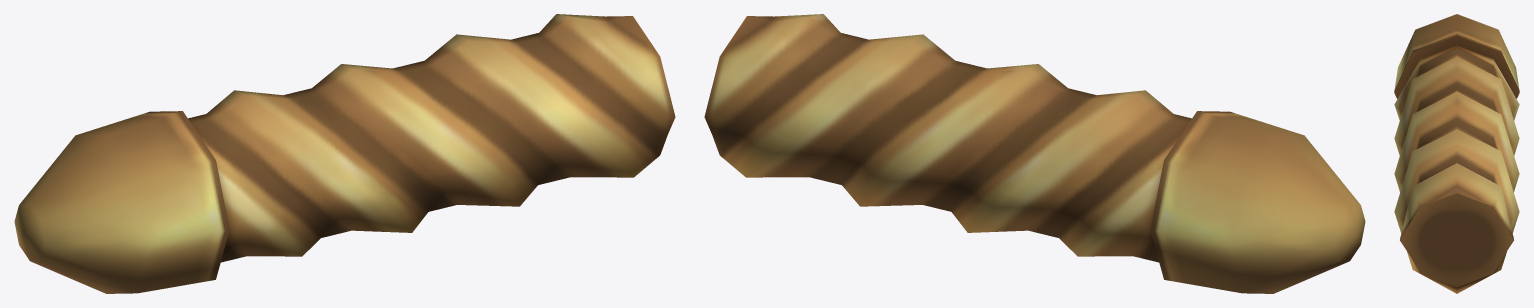
The model's file is Legend_SmK_Base_4_Mod.FBX.
3 views of the same model, side by side, from view 1: azimuth 30°, elevation 25°; view 2: azimuth 150°, elevation 25°; view 3: azimuth 270°, elevation 25° (orthographic). The views are drawn at different scales.
Visible parts, largest first — view 1: Legend_SmK_Base_4_Mod; view 2: Legend_SmK_Base_4_Mod; view 3: Legend_SmK_Base_4_Mod.
Boxes of the visible parts, <box> form: Legend_SmK_Base_4_Mod: <box>14,14,675,293</box>; Legend_SmK_Base_4_Mod: <box>704,14,1365,293</box>; Legend_SmK_Base_4_Mod: <box>1394,14,1519,293</box>.
Bounding box in the file's own units: 22.89 × 6.07 × 6.07.
